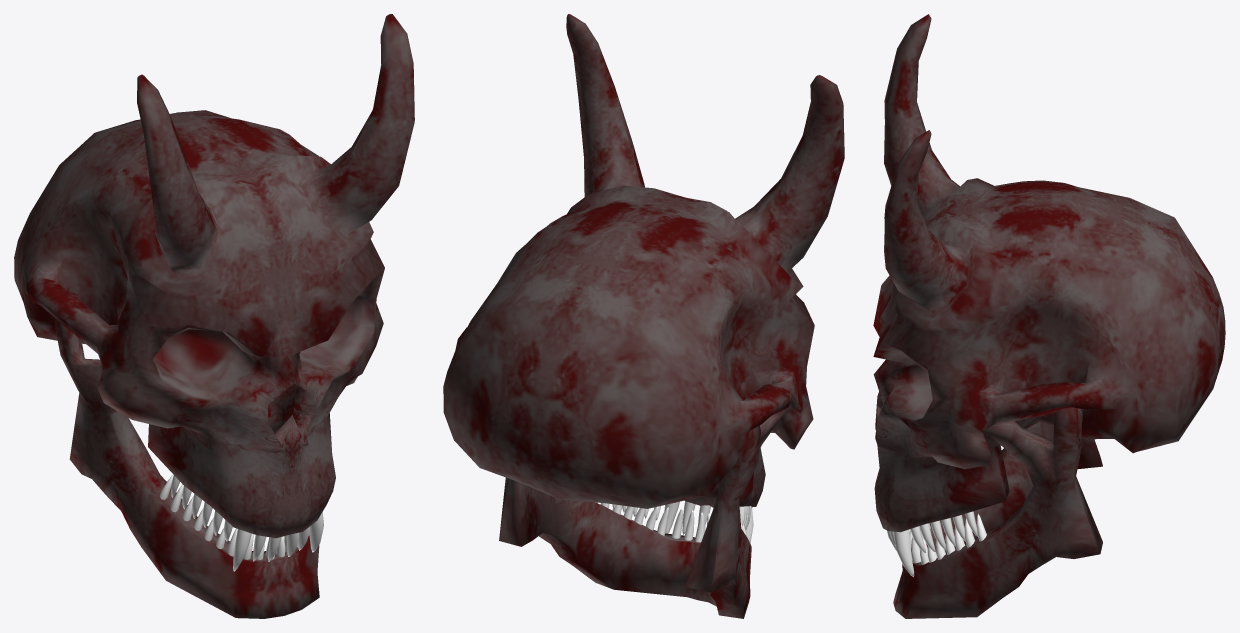
Rendered from skull.obj.
3 renders of one model, left to right at view 1: azimuth 30°, elevation 25°; view 2: azimuth 150°, elevation 25°; view 3: azimuth 270°, elevation 25°, orthographic. The views are drawn at different scales.
Visible parts, largest first — view 1: skull, teeth; view 2: skull, teeth; view 3: skull, teeth.
Boxes of the visible parts, box(x1,y1,x2,y2) form: skull: box(14, 14, 414, 618); teeth: box(159, 474, 323, 571); skull: box(443, 14, 844, 618); teeth: box(595, 501, 753, 543); skull: box(873, 14, 1225, 618); teeth: box(887, 511, 986, 577).
Bounding box in the file's own units: 2.5 × 4.26 × 2.57.
2 materials, 1 textured.
